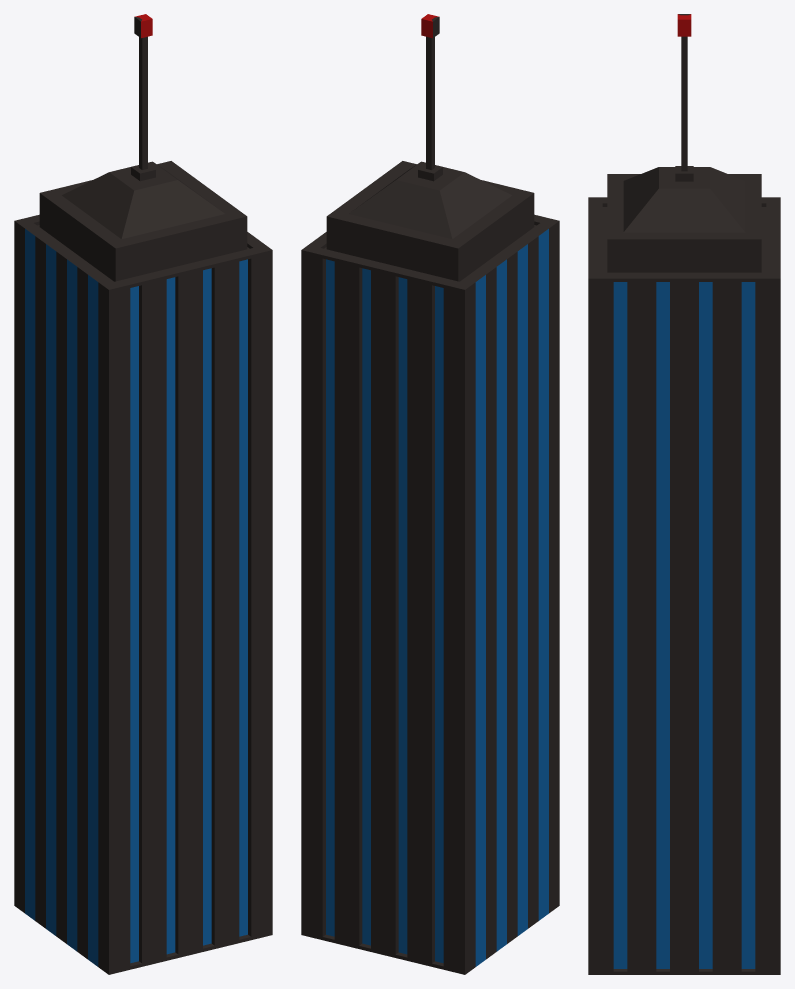
Rendered from House 5.FBX.
3 views of the same model, side by side, from view 1: azimuth 30°, elevation 25°; view 2: azimuth 150°, elevation 25°; view 3: azimuth 270°, elevation 25° (orthographic).
Parts seen in each view (by area): view 1: House 5; view 2: House 5; view 3: House 5.
Boxes of the visible parts, box(x1,y1,x2,y2) form: House 5: box(14, 14, 272, 974); House 5: box(301, 14, 559, 974); House 5: box(588, 14, 780, 974).
Bounding box in the file's own units: 20 × 105 × 20.
